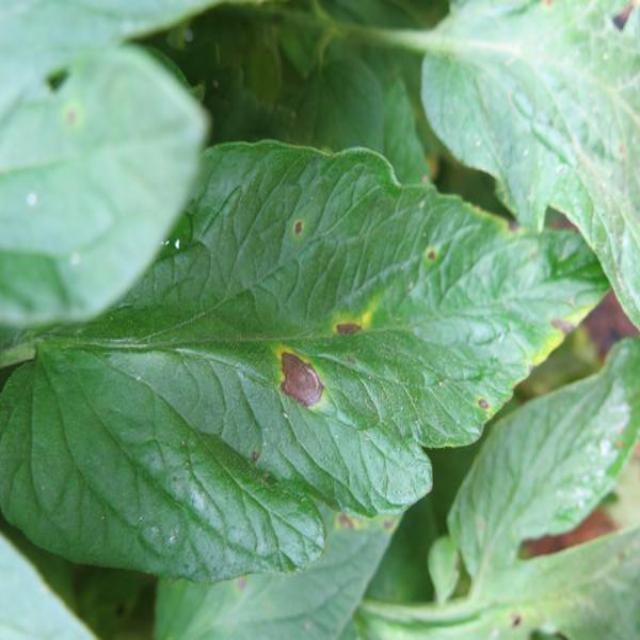Early_blight: (531, 303, 596, 368), (272, 344, 325, 409), (331, 307, 373, 338), (333, 511, 366, 532), (424, 249, 439, 266), (293, 217, 305, 236)
